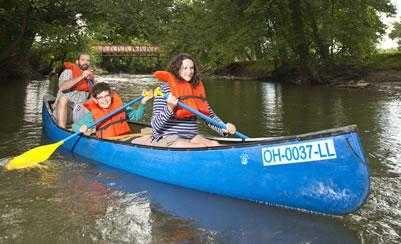kayak: (38, 108, 369, 219)
